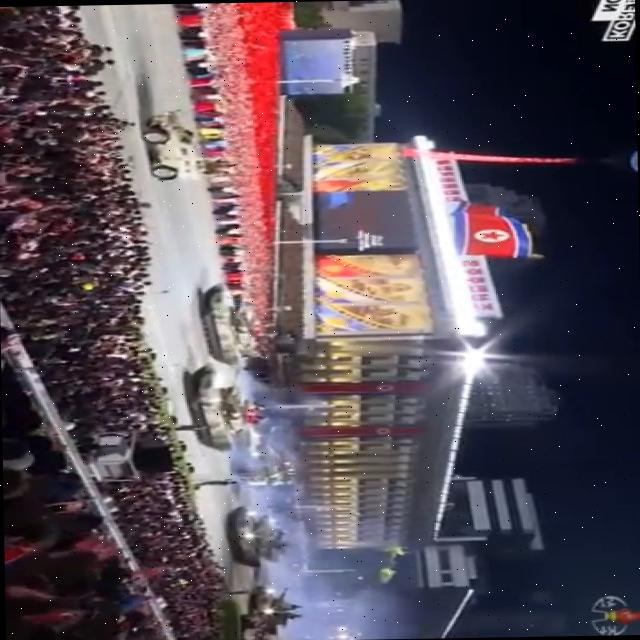north tank: (166, 271, 280, 366), (175, 356, 266, 451), (220, 500, 294, 569)
